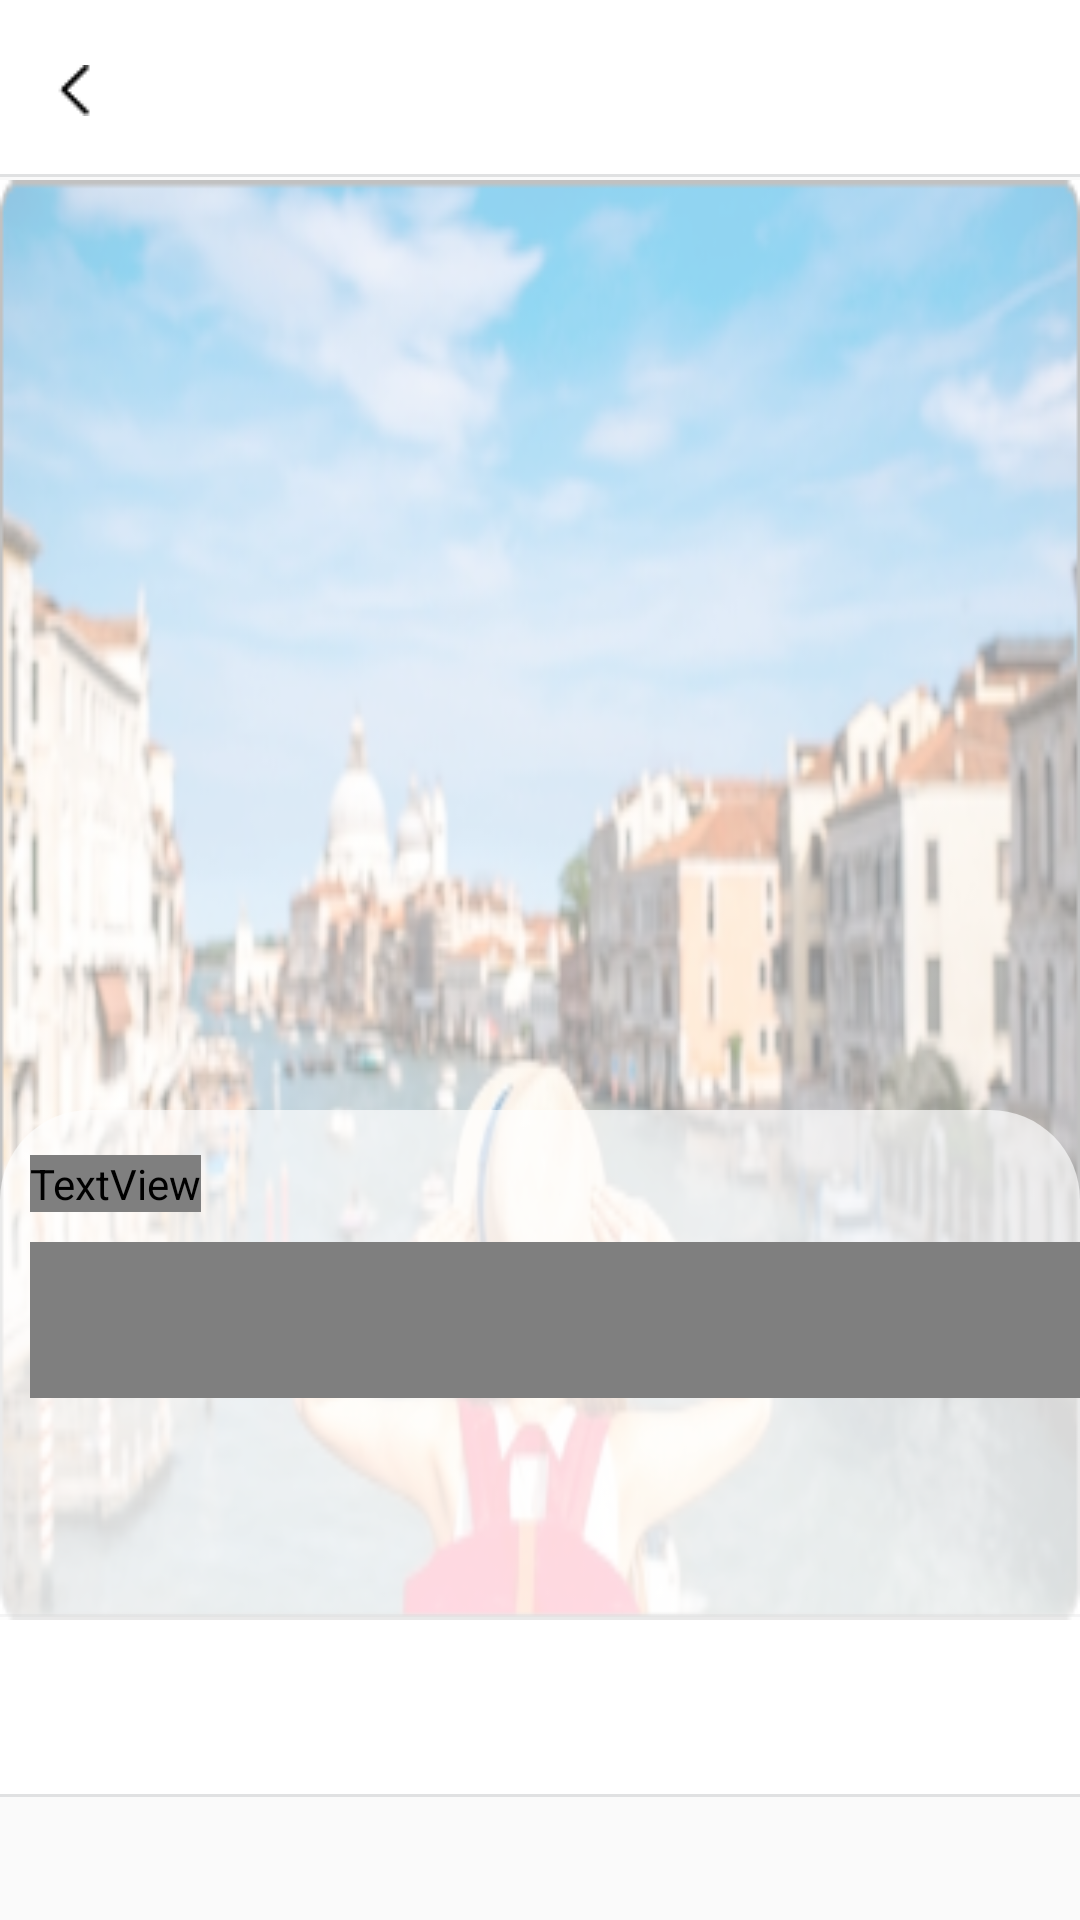

Named icons in this screenshot (1080*1920) and their bounding boxes, (x1, y1, x2, y2):
back: (59, 65, 90, 116)
